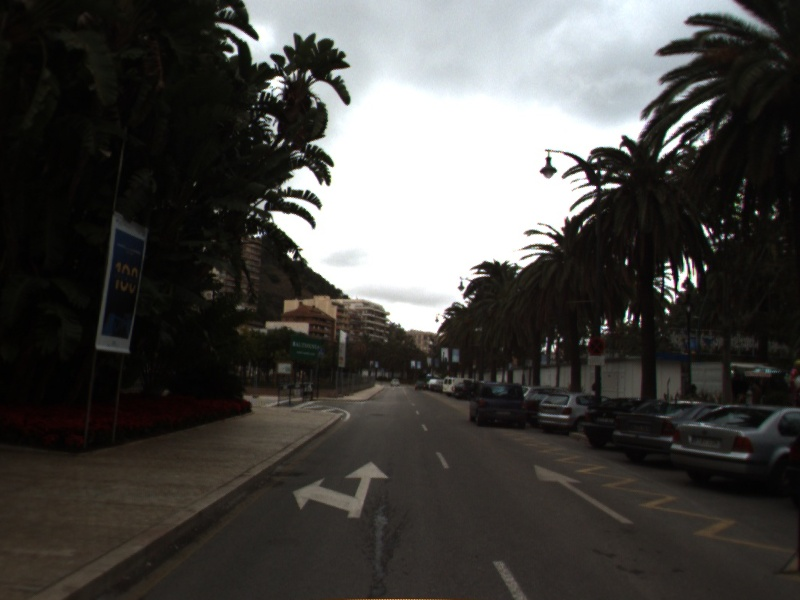STRAIGHT: (531, 461, 636, 527)
STRAIGHT_LEFT: (289, 459, 392, 520)
